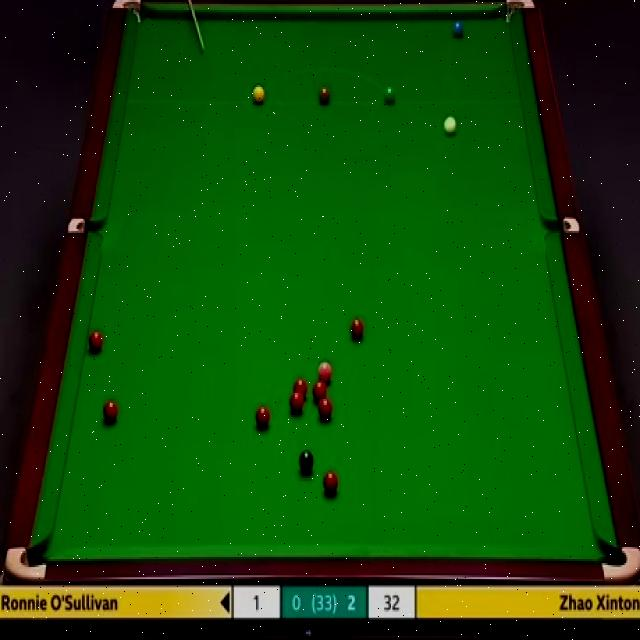black-ball: (299, 450, 316, 473)
blue-ball: (452, 21, 465, 38)
brown-ball: (318, 85, 332, 105)
green-ball: (382, 85, 397, 107)
pink-ball: (317, 358, 332, 383)
red-ball: (255, 404, 271, 431), (88, 330, 106, 354), (102, 399, 119, 424), (317, 395, 333, 420), (323, 470, 339, 494), (311, 379, 326, 402), (349, 317, 364, 339), (294, 377, 308, 400), (289, 392, 304, 413)
white-ball: (442, 116, 457, 135)
yellow-ball: (251, 84, 266, 105)
